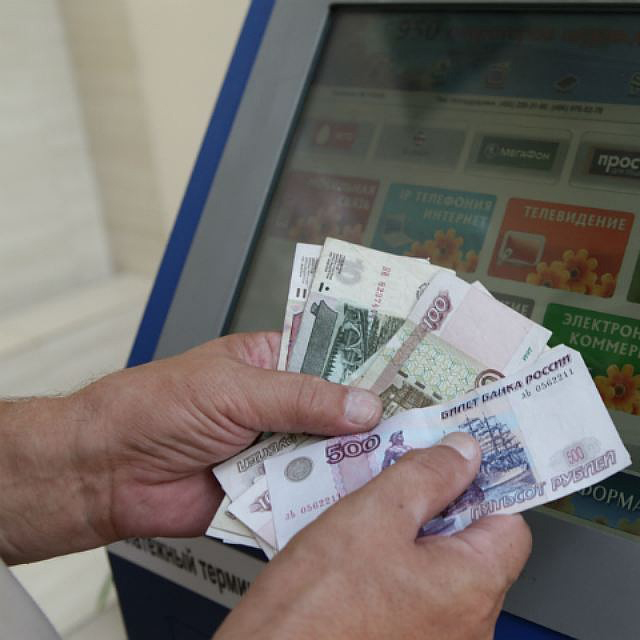banknotes: (204, 242, 627, 552)
